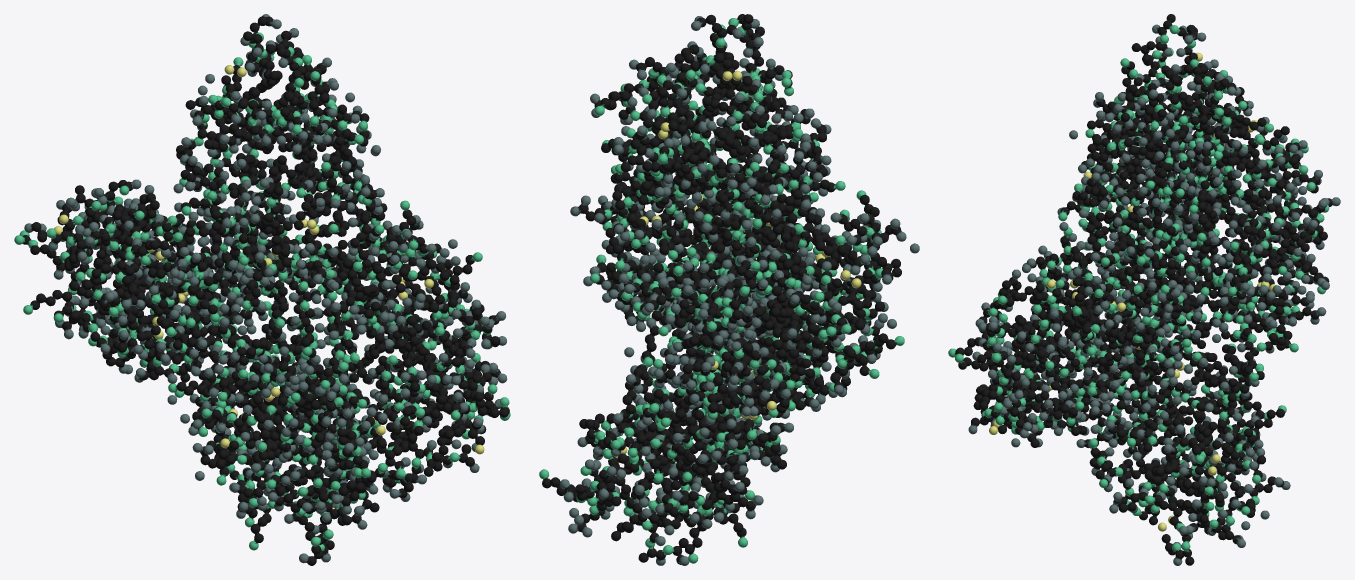
File: atoms.high.glb
The picture shows the model from 3 angles, left to right: view 1: azimuth 30°, elevation 25°; view 2: azimuth 150°, elevation 25°; view 3: azimuth 270°, elevation 25°; orthographic projection. The views are drawn at different scales.
Parts seen in each view (by area): view 1: geo1.004; view 2: geo1.004; view 3: geo1.004.
Boxes of the visible parts, box(x1,y1,x2,y2) form: geo1.004: box(14, 14, 510, 565); geo1.004: box(539, 14, 919, 565); geo1.004: box(948, 14, 1340, 565).
Bounding box in the file's own units: 65.83 × 91.37 × 63.07.
